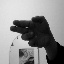h: (9, 13, 48, 48)
